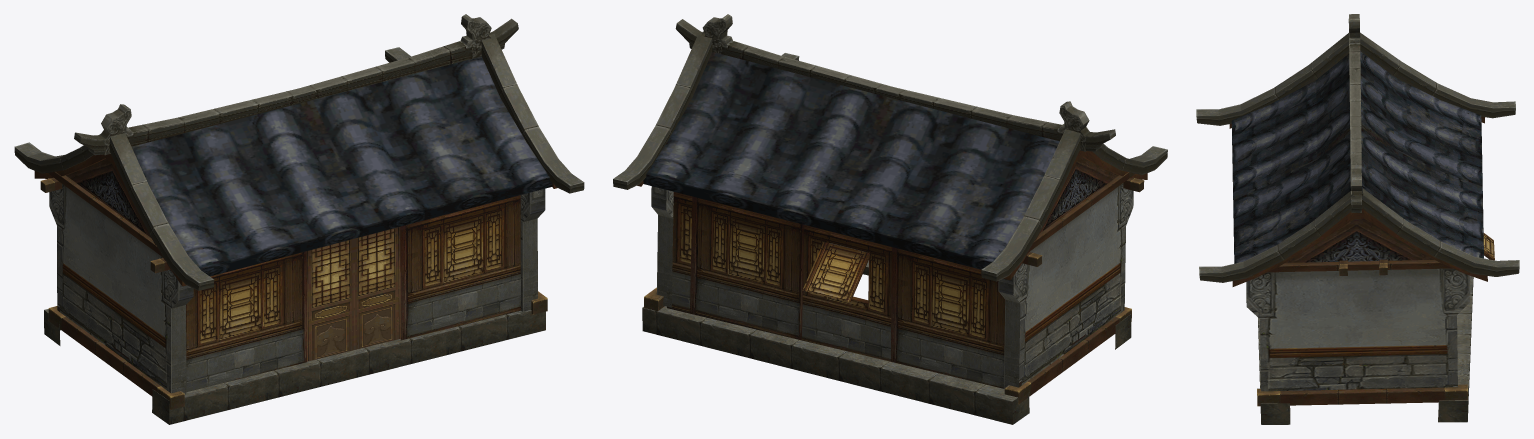
The model's file is ss_fanzi_2.FBX.
3 renders of one model, left to right at view 1: azimuth 30°, elevation 25°; view 2: azimuth 150°, elevation 25°; view 3: azimuth 270°, elevation 25°, orthographic. The views are drawn at different scales.
Visible parts, largest first — view 1: ss_fanzi_2; view 2: ss_fanzi_2; view 3: ss_fanzi_2.
Part boxes in pixels (x1,y1,x2,y2): ss_fanzi_2: (14, 14, 584, 424); ss_fanzi_2: (613, 14, 1167, 424); ss_fanzi_2: (1196, 14, 1519, 424).
Bounding box in the file's own units: 915 × 557 × 654.
